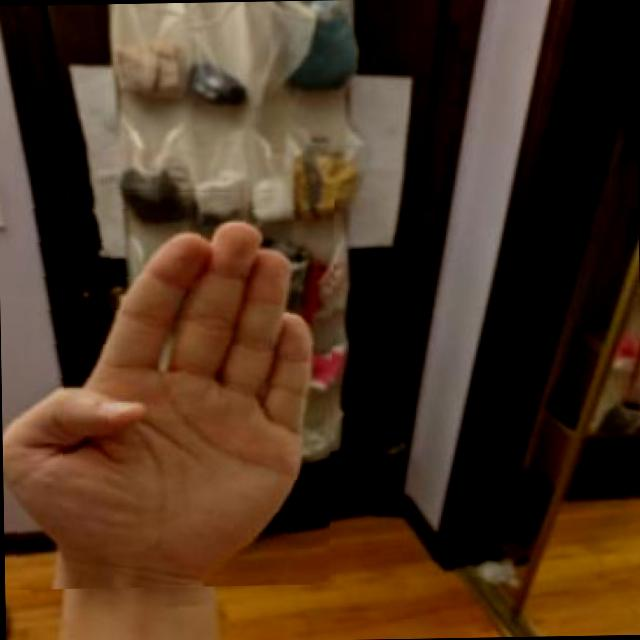B: (0, 184, 340, 589)
